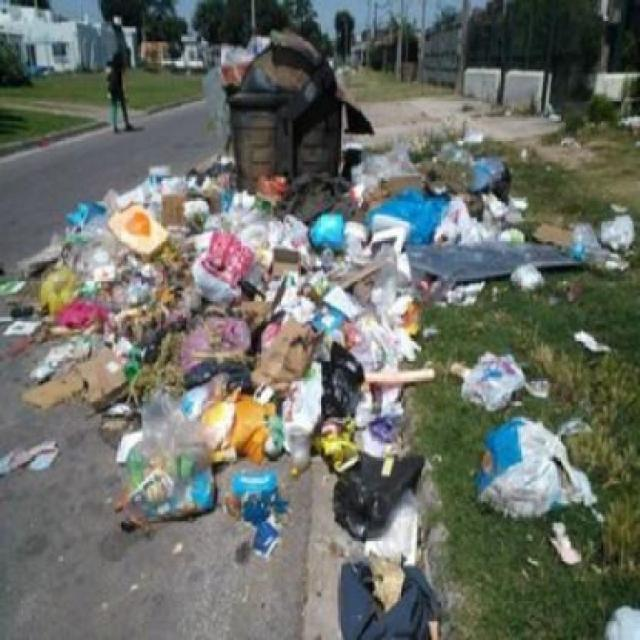garbage: (57, 166, 430, 638), (424, 149, 640, 293), (446, 345, 592, 519), (0, 222, 54, 463), (201, 36, 274, 186), (603, 602, 639, 639)
